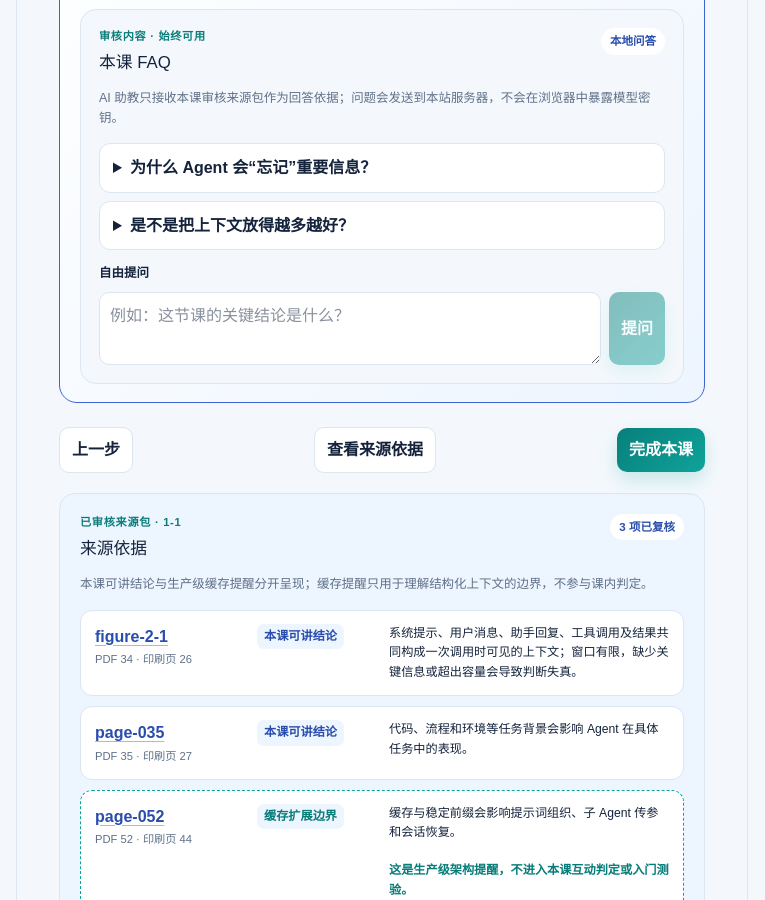
Test: LessonPlayer › offers the posttest after the final lesson step is completed
(page scrolled)
Click the button "完成本课". click: click(661, 450)
box: [617, 428, 705, 472]
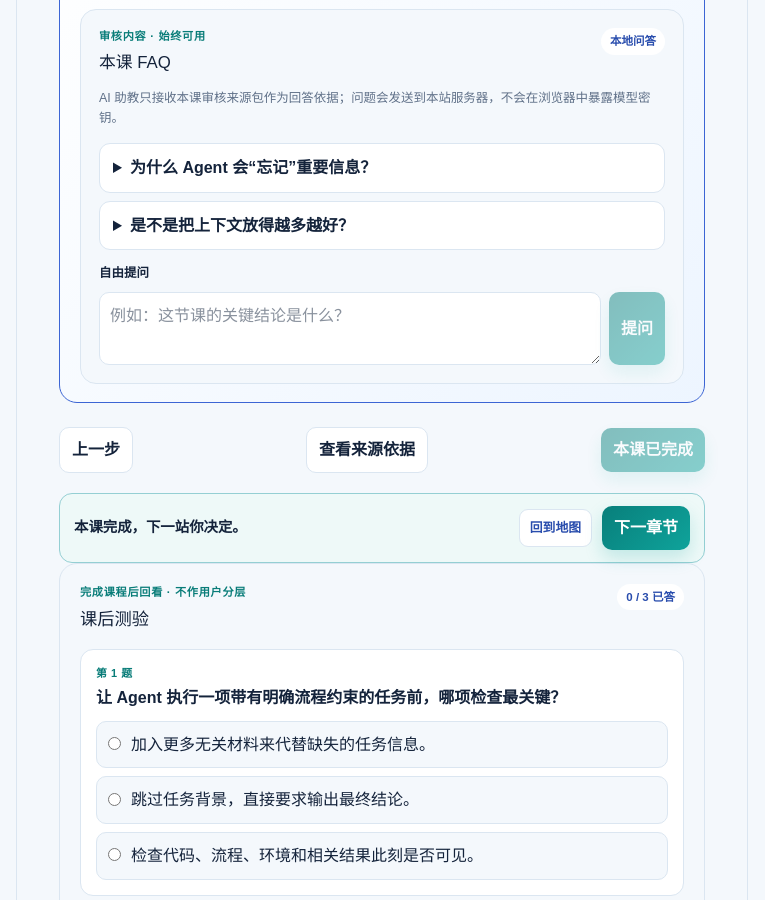
Result: the navigation bar named "课程完成后导航" is shown at [59, 493, 705, 563]
